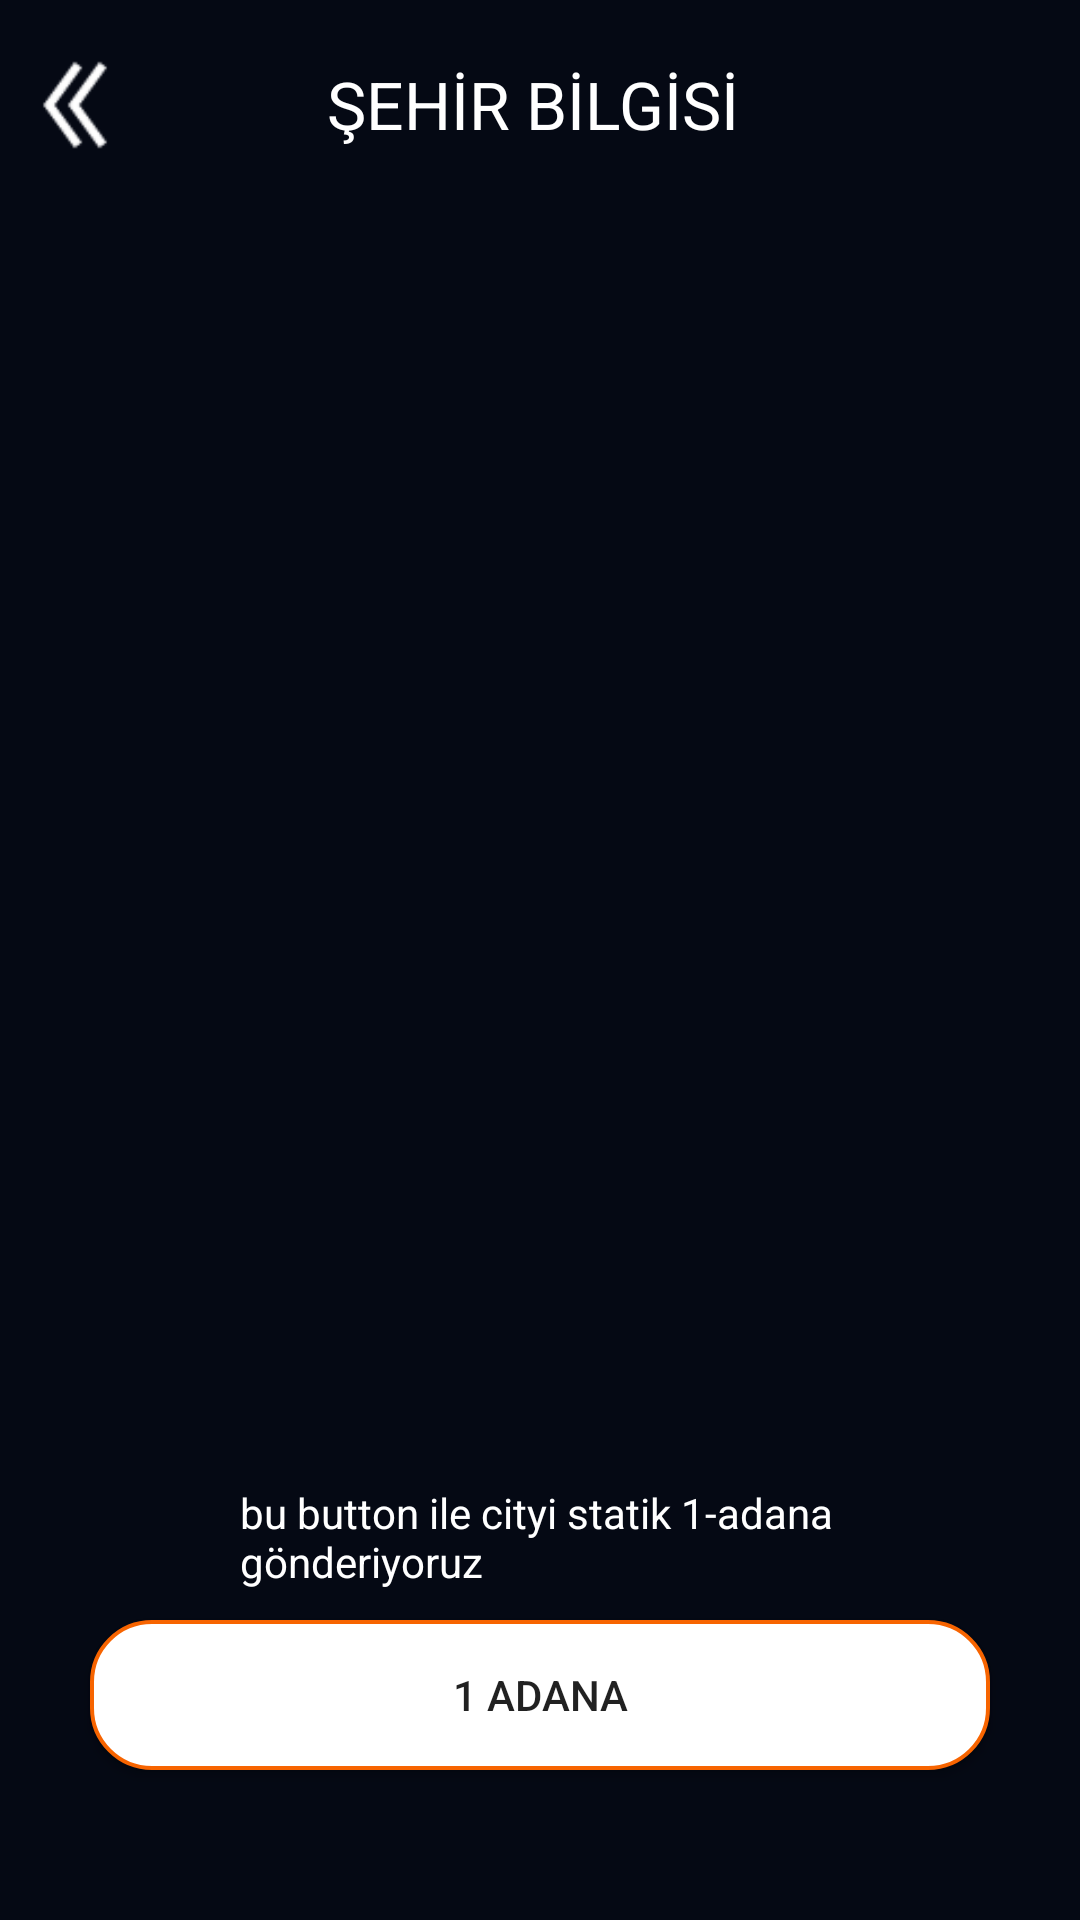

Where icons sit on this 1080x1920 app screen, as box=[x1, y1, x2, y2]:
back double: box=[43, 62, 107, 148]
